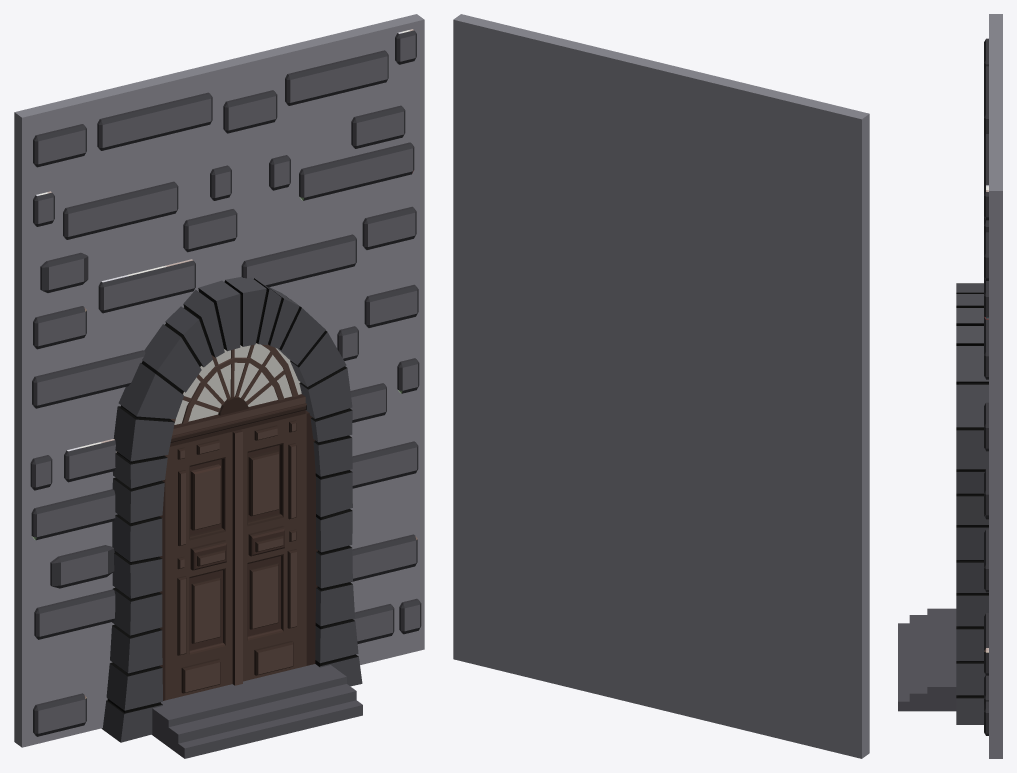
File: ParedeDePedraComPorta.fbx
3 views of the same model, side by side, from view 1: azimuth 30°, elevation 25°; view 2: azimuth 150°, elevation 25°; view 3: azimuth 270°, elevation 25° (orthographic). The views are drawn at different scales.
Parts seen in each view (by area): view 1: ParedePedraComPorta_LoPo; view 2: ParedePedraComPorta_LoPo; view 3: ParedePedraComPorta_LoPo.
Part boxes in pixels (x1,y1,x2,y2): ParedePedraComPorta_LoPo: (14,14,424,758); ParedePedraComPorta_LoPo: (453,14,869,758); ParedePedraComPorta_LoPo: (898,14,1002,758).
Bounding box in the file's own units: 200 × 300 × 50.
